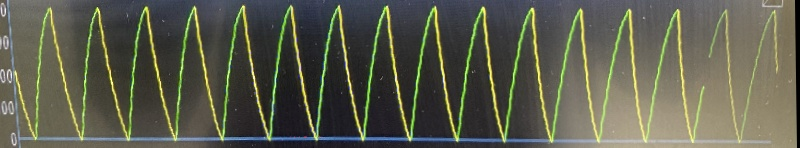normal_volume: (29, 3, 753, 146)
